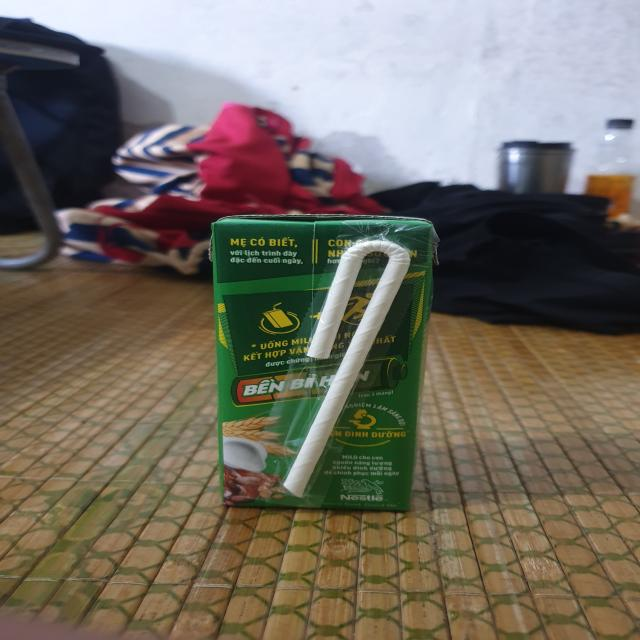Milo: (202, 208, 442, 518)
